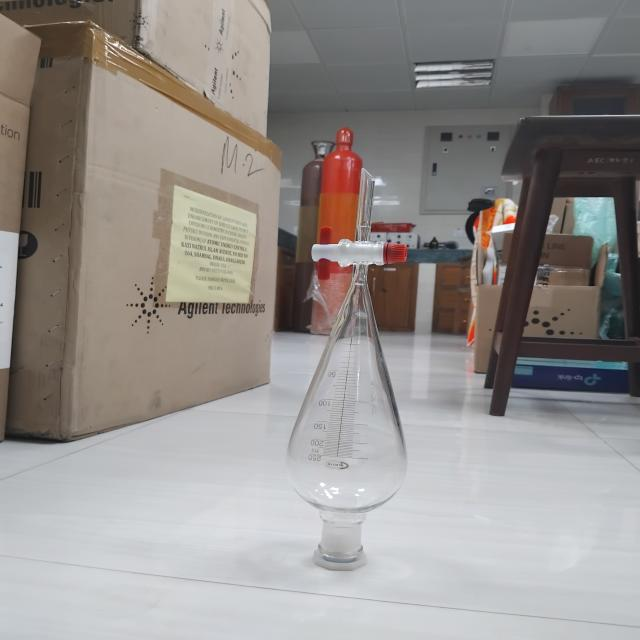Separating_Funnel: (261, 157, 437, 596)
